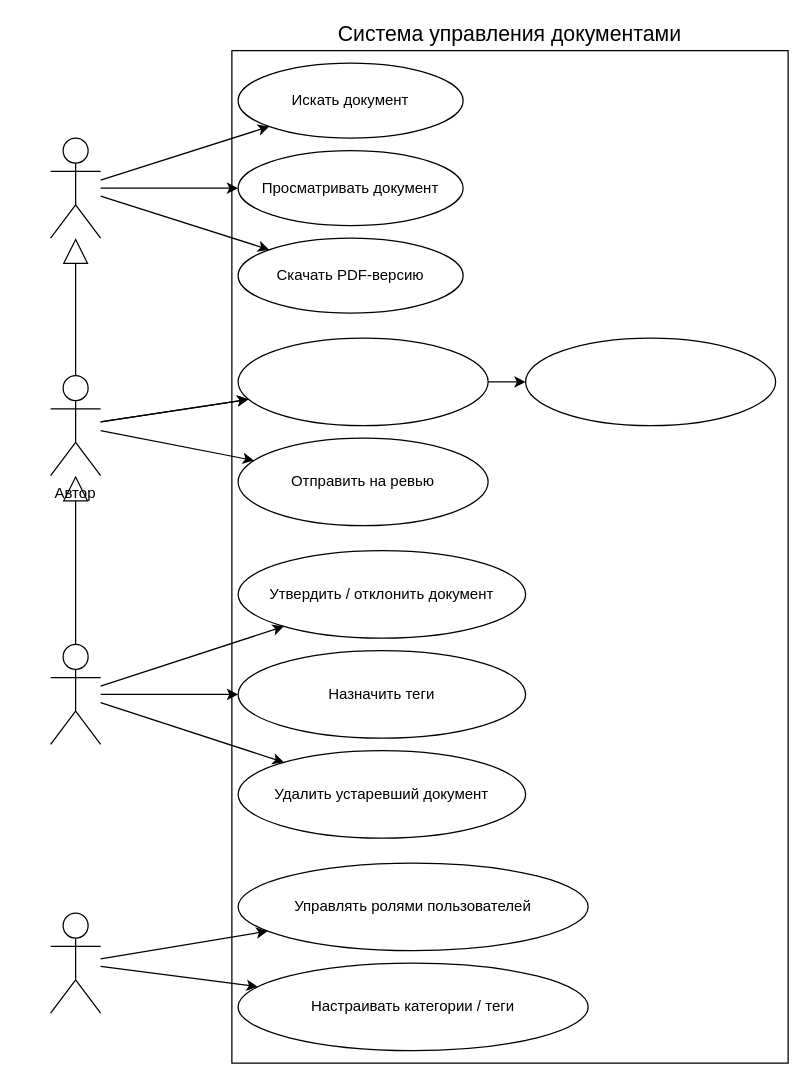
This 810x1085 diagram has some shape labels left out. Here are the shapes that lost their labels. From the top down, the centre of each, then its label:
point (75, 187): Читатель
point (362, 381): Создать документ (черновик)
point (650, 381): Редактировать свой документ
point (75, 693): Редактор
point (75, 962): Администратор
